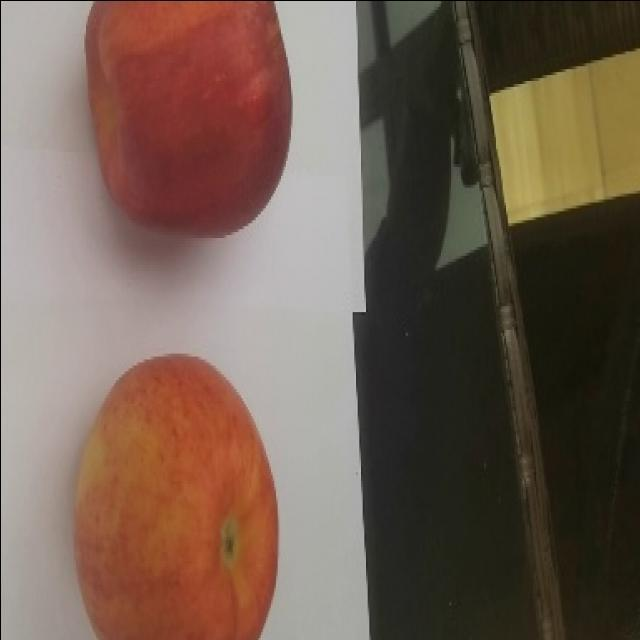Apple: (73, 353, 279, 639), (84, 0, 293, 238)
